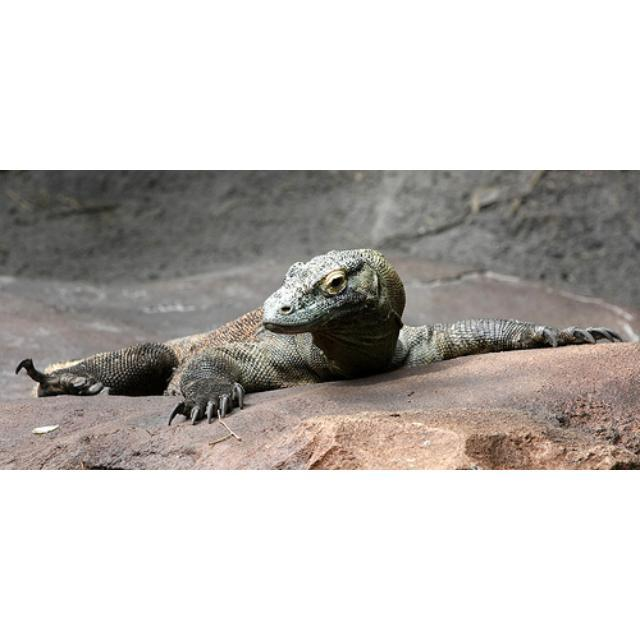KomodoDragon: (14, 246, 625, 431)
